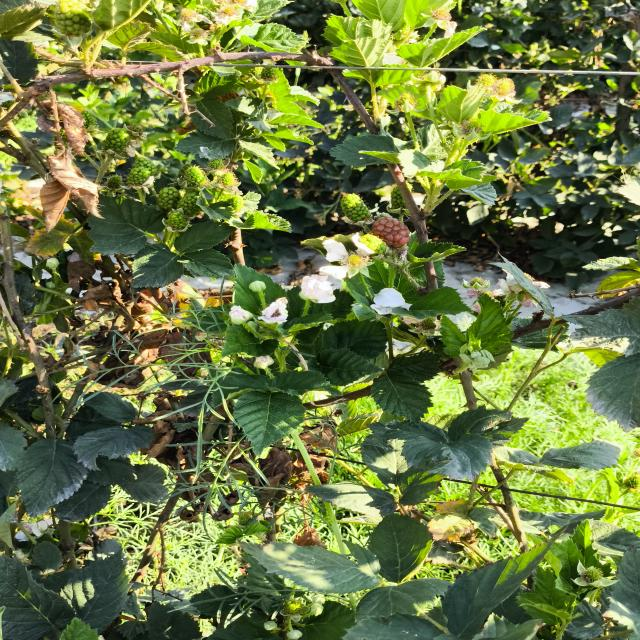boton: (304, 595, 324, 616), (254, 355, 274, 369), (249, 281, 266, 292), (263, 620, 278, 631), (286, 630, 302, 640), (47, 257, 59, 269)
flor: (319, 233, 373, 279), (301, 275, 335, 303), (258, 297, 288, 323), (229, 305, 253, 324)
naranja: (372, 217, 410, 248)
verde: (340, 194, 371, 221), (103, 129, 130, 153), (178, 189, 202, 216), (156, 187, 180, 211), (182, 165, 206, 186), (361, 234, 387, 253), (127, 166, 151, 186), (388, 185, 407, 210), (166, 210, 187, 230), (406, 184, 412, 191)
